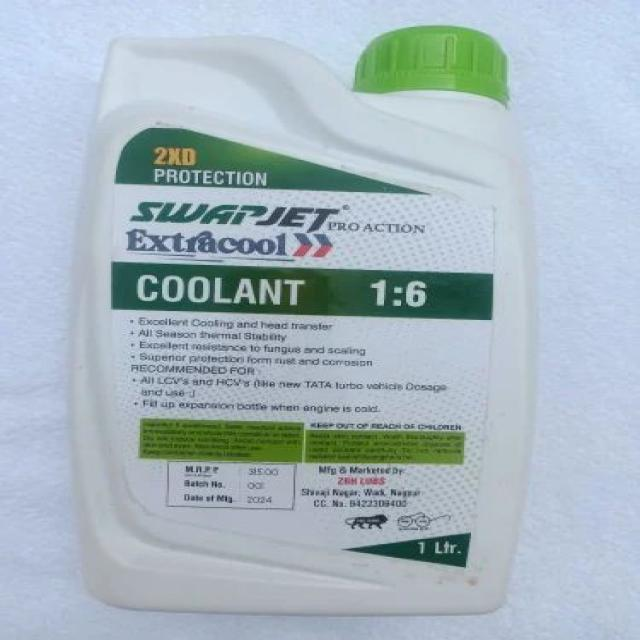coolant: (65, 14, 539, 618)
